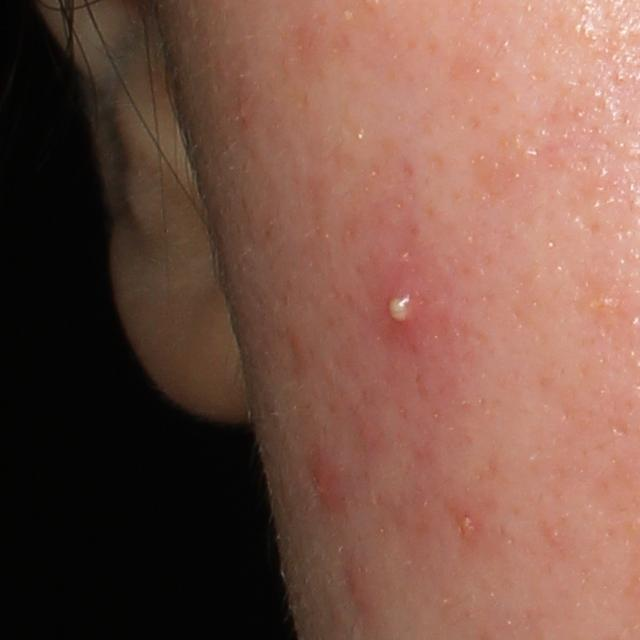papule: (314, 450, 341, 518), (348, 565, 371, 619)
pustule: (370, 272, 432, 339)
